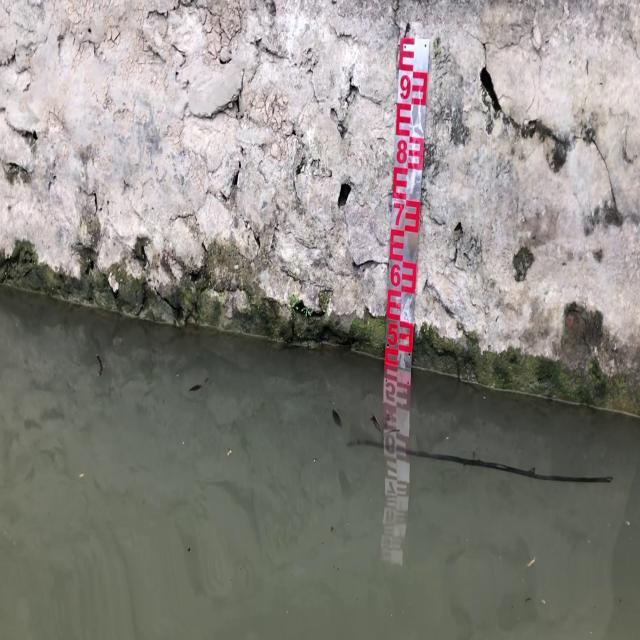ruler: (371, 26, 435, 373)
value: (395, 70, 412, 104), (393, 134, 408, 167), (390, 197, 405, 230), (387, 260, 402, 289), (384, 320, 398, 350)
